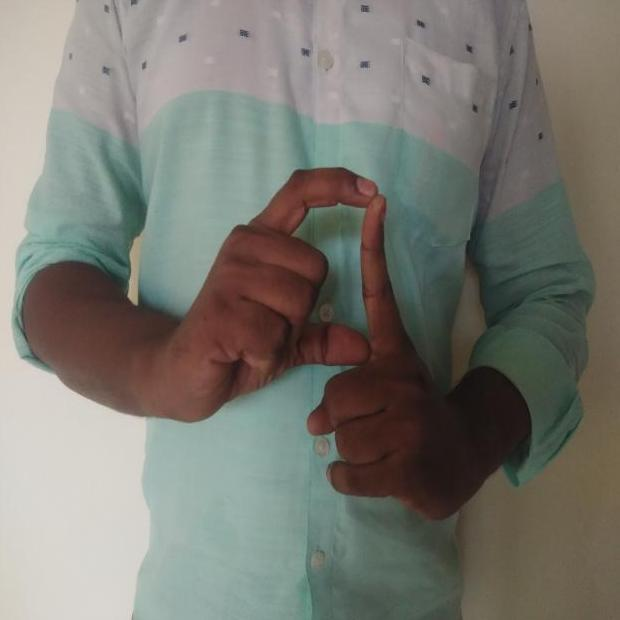C: (163, 155, 478, 536)
